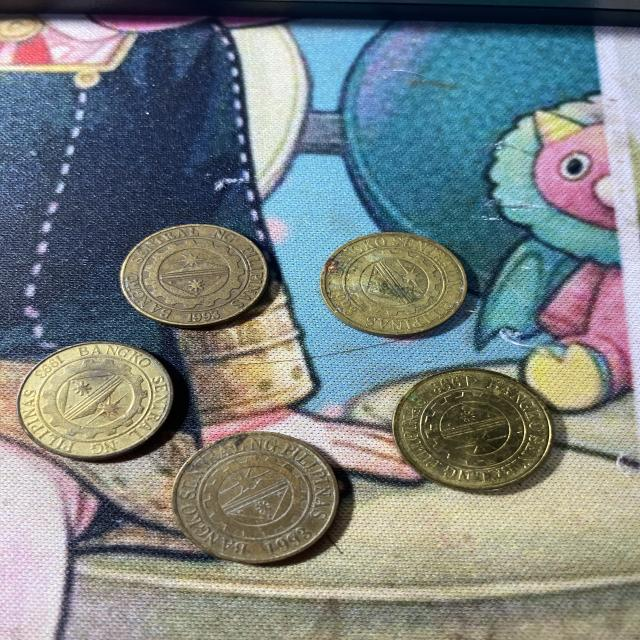25Cent_Old_Back: (176, 436, 338, 556), (22, 342, 170, 459), (399, 373, 544, 487), (320, 230, 462, 329), (124, 228, 268, 324)
